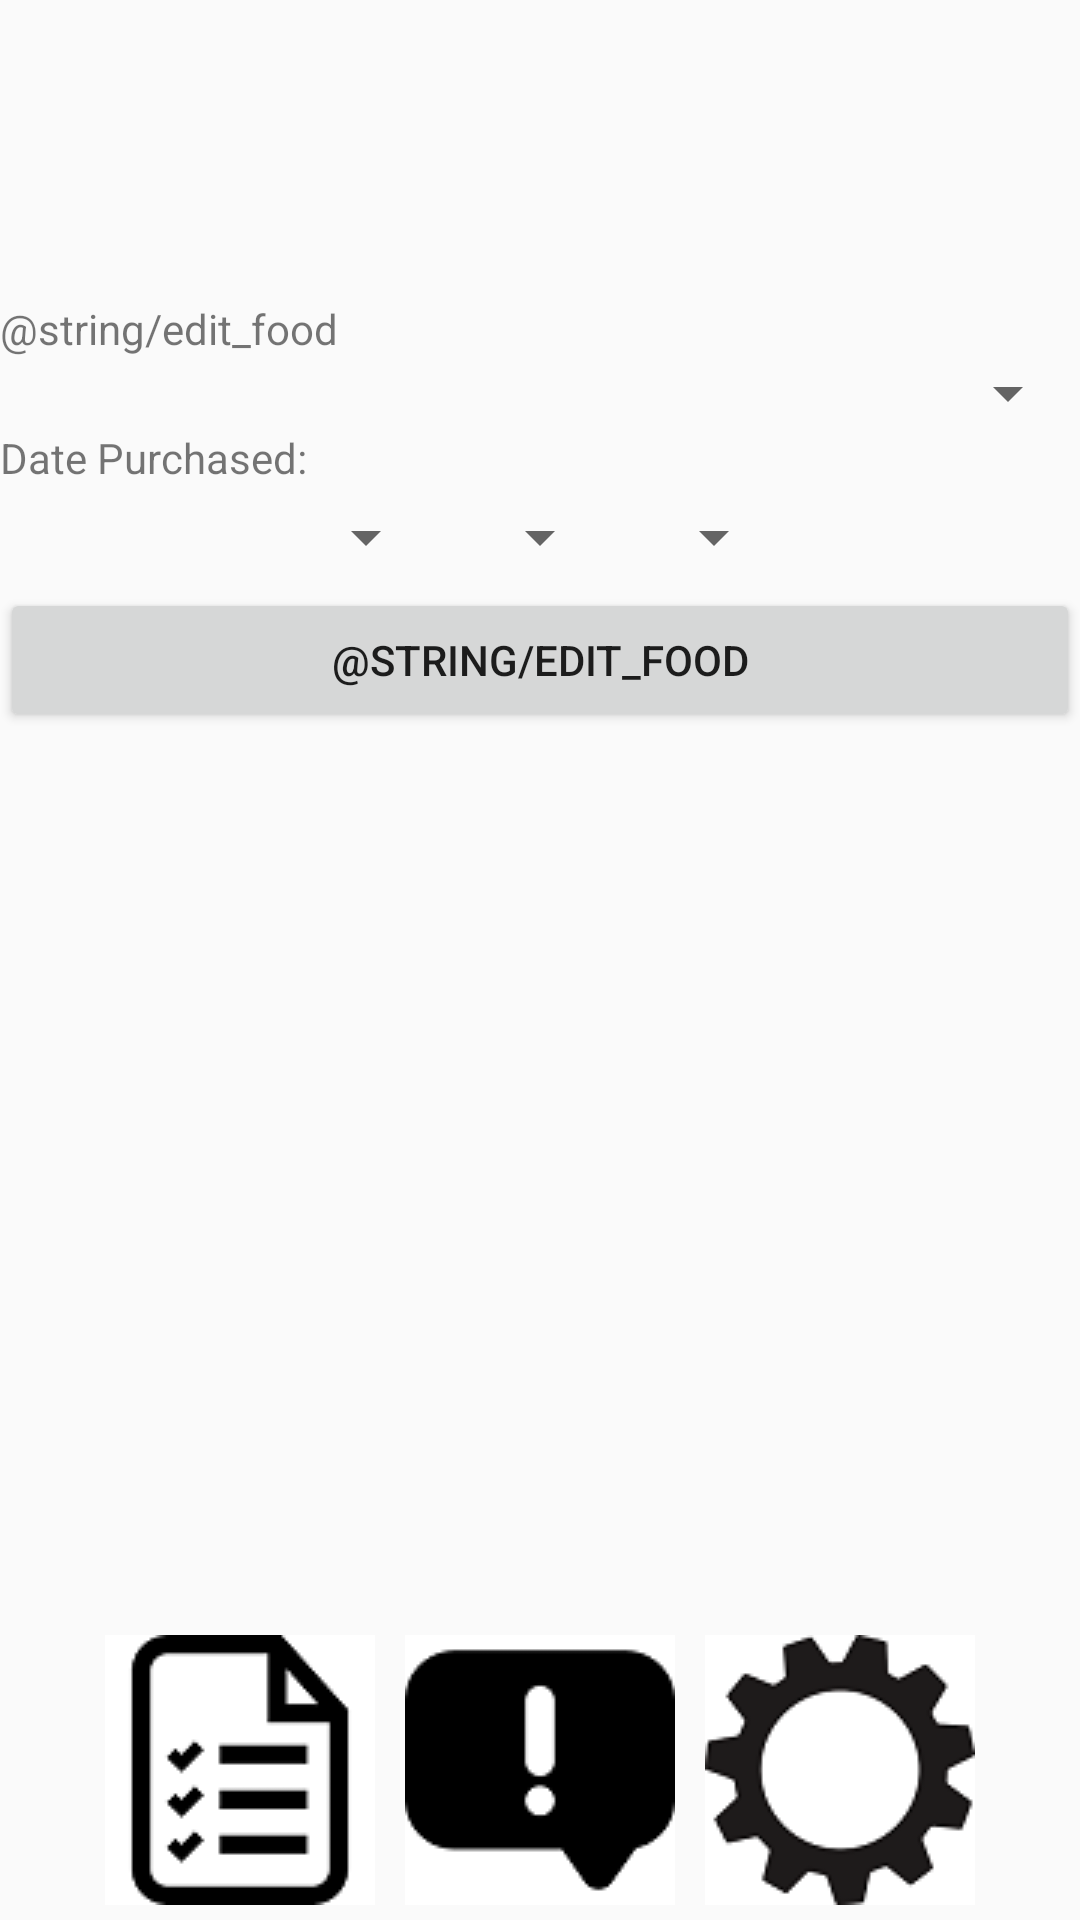

Named icons in this screenshot (1080px×1920px) and their centers, point (x, y):
alert: point (540, 1770)
settings gear: point (840, 1770)
